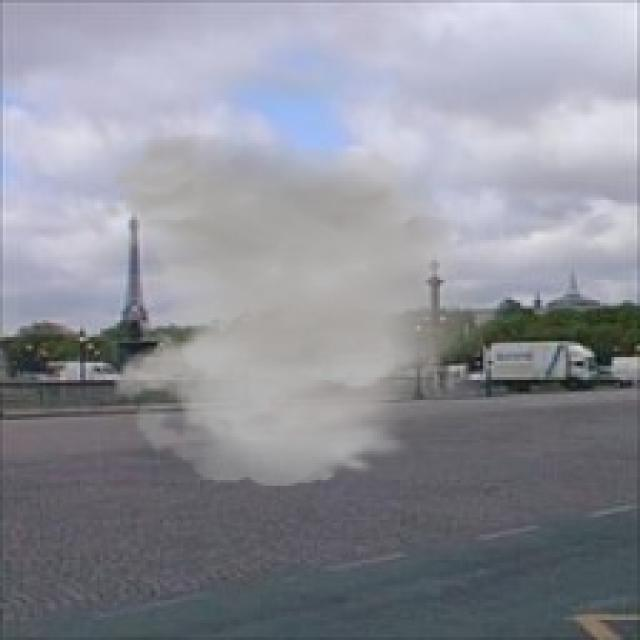smoke: (100, 131, 520, 486)
